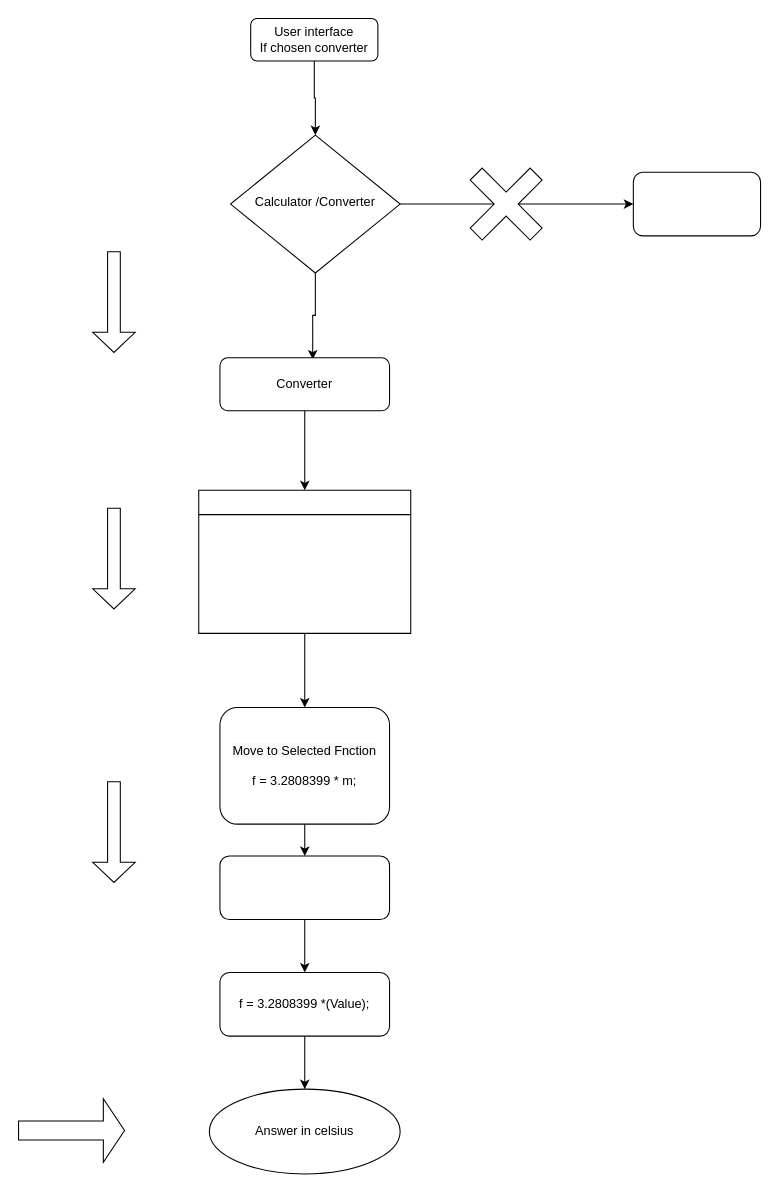
This 779x1192 diagram has some shape labels left out. The centre of each missing label's shape, as x and y in pixels:
Calculator: point 696,203
Enter the values of distance in meter: point 304,887
Function of Converter 3.For Meter to Feet.: point 304,561
